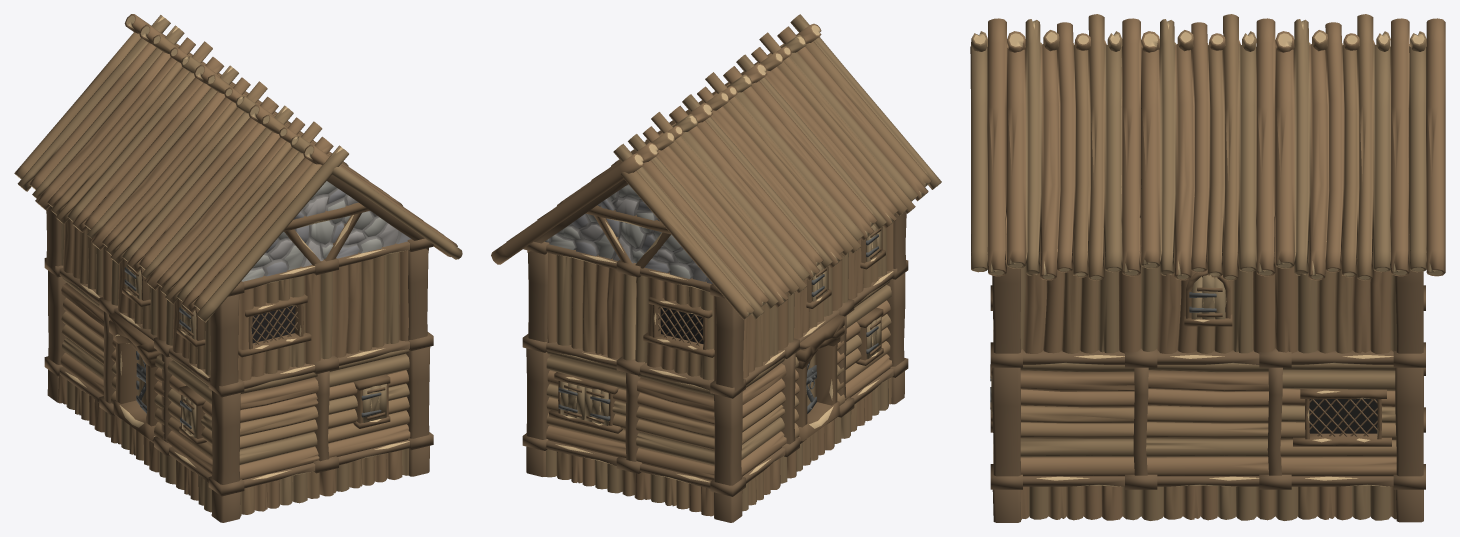
Rendered from rpgpp_ag_building_closed_12.fbx.
The picture shows the model from 3 angles, left to right: view 1: azimuth 30°, elevation 25°; view 2: azimuth 150°, elevation 25°; view 3: azimuth 270°, elevation 25°; orthographic projection. The views are drawn at different scales.
Visible parts, largest first — view 1: rpgpp_ag_building_closed_12; view 2: rpgpp_ag_building_closed_12; view 3: rpgpp_ag_building_closed_12.
Part boxes in pixels (x1=…): rpgpp_ag_building_closed_12: x1=14, y1=14, x2=462, y2=522; rpgpp_ag_building_closed_12: x1=491, y1=14, x2=941, y2=522; rpgpp_ag_building_closed_12: x1=970, y1=14, x2=1445, y2=522.
Bounding box in the file's own units: 8.61 × 10.79 × 10.61.
